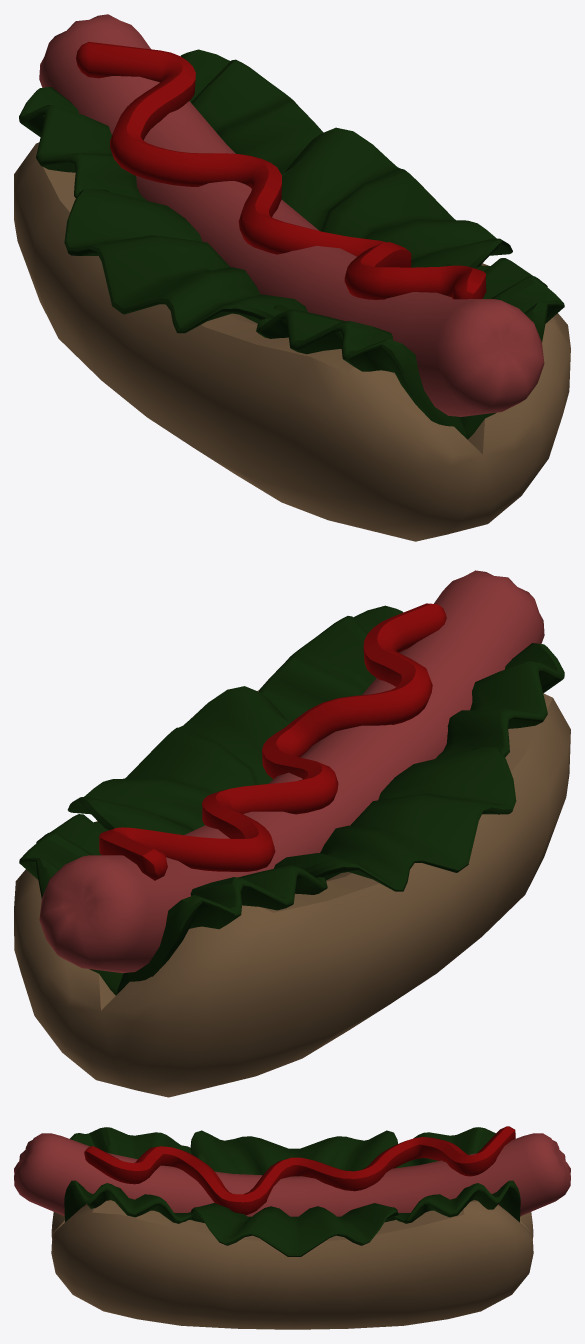
Rendered from Hot Dog_2.FBX.
3 renders of one model, top to bottom at view 1: azimuth 30°, elevation 25°; view 2: azimuth 150°, elevation 25°; view 3: azimuth 270°, elevation 25°, orthographic. The views are drawn at different scales.
Visible parts, largest first — view 1: Hot Dog_2; view 2: Hot Dog_2; view 3: Hot Dog_2.
Part boxes in pixels (box(x1,y1,x2,y2)): Hot Dog_2: box(14, 14, 570, 541); Hot Dog_2: box(14, 570, 570, 1097); Hot Dog_2: box(14, 1126, 570, 1329).
Size of the model in its own units: 500 by 1113 by 393.
